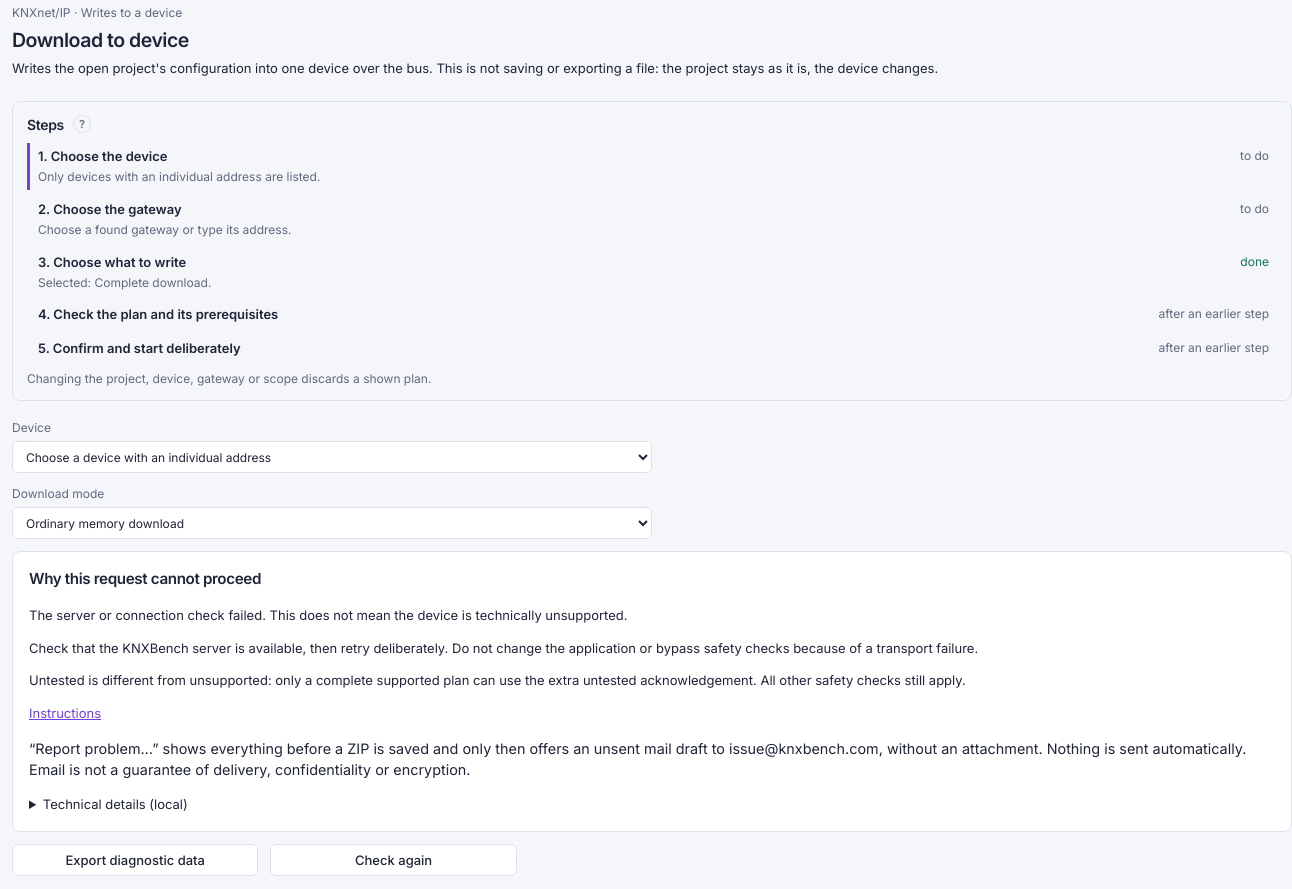
keeps an ordinary readiness failure out of System-2 mode and back in memory mode
The width and height of the screenshot is (1292, 889).
Select "1.1.67 — Configured button" in the dropdown labelled "Device" at [332, 457], box [12, 441, 652, 473]
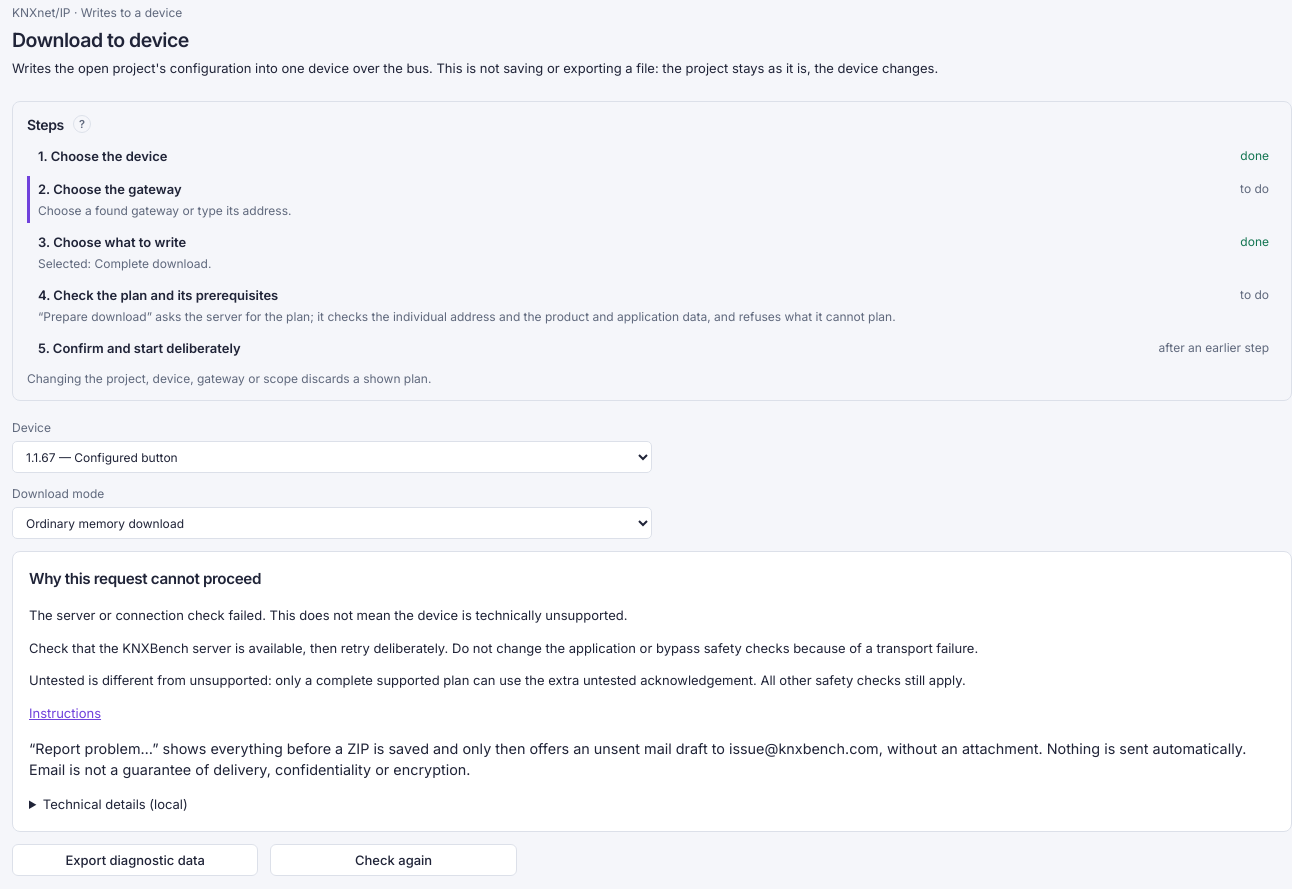
Expected: the element named "Why this request cannot proceed" is shown, [12, 551, 1291, 832]
Expected: the button "Check again" is shown, [270, 844, 517, 876]
Select "System-2 — experimental configured download" in the dropdown labelled "Download mode" at [332, 523], box [12, 507, 652, 539]
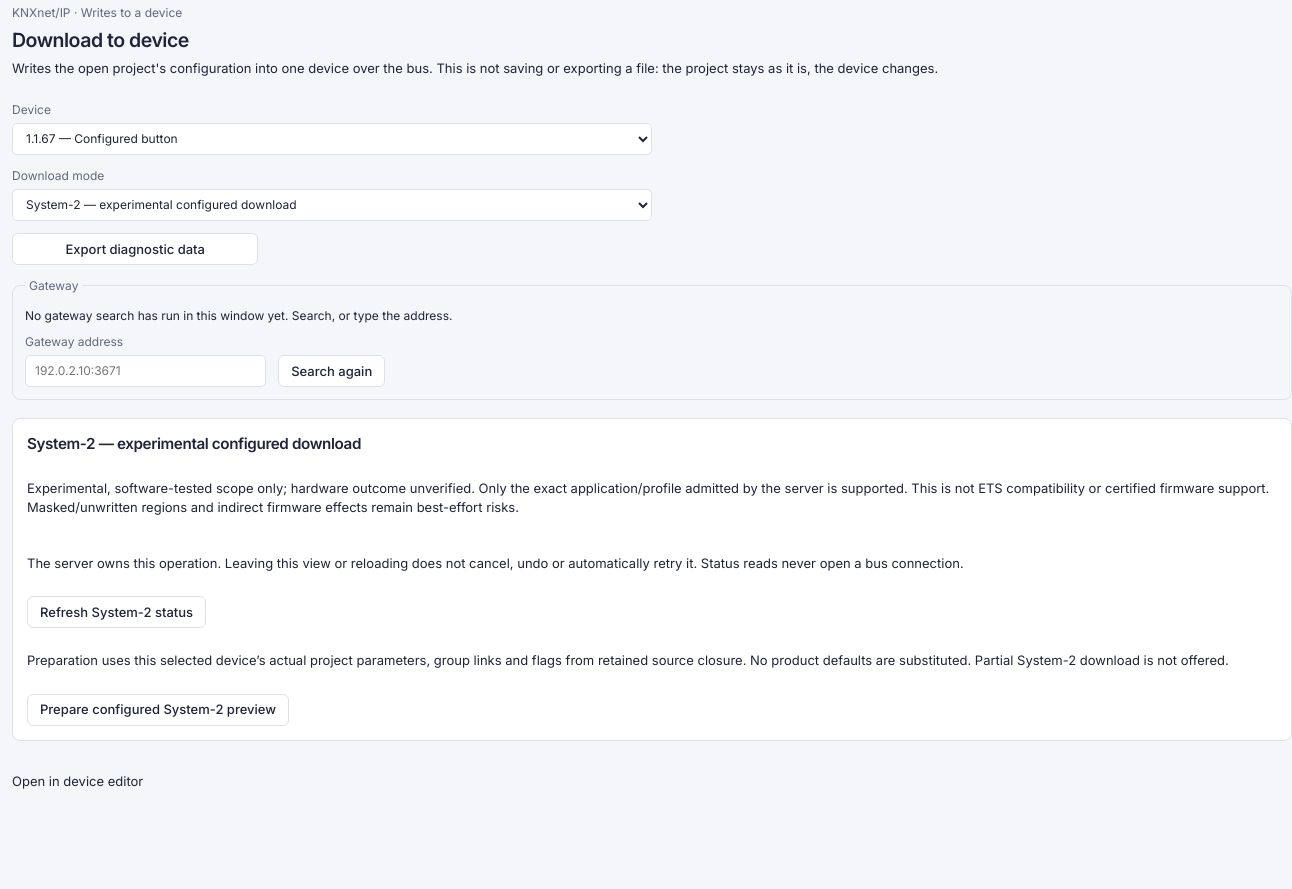
Select "Ordinary memory download" in the dropdown labelled "Download mode" at [332, 205], box [12, 189, 652, 221]
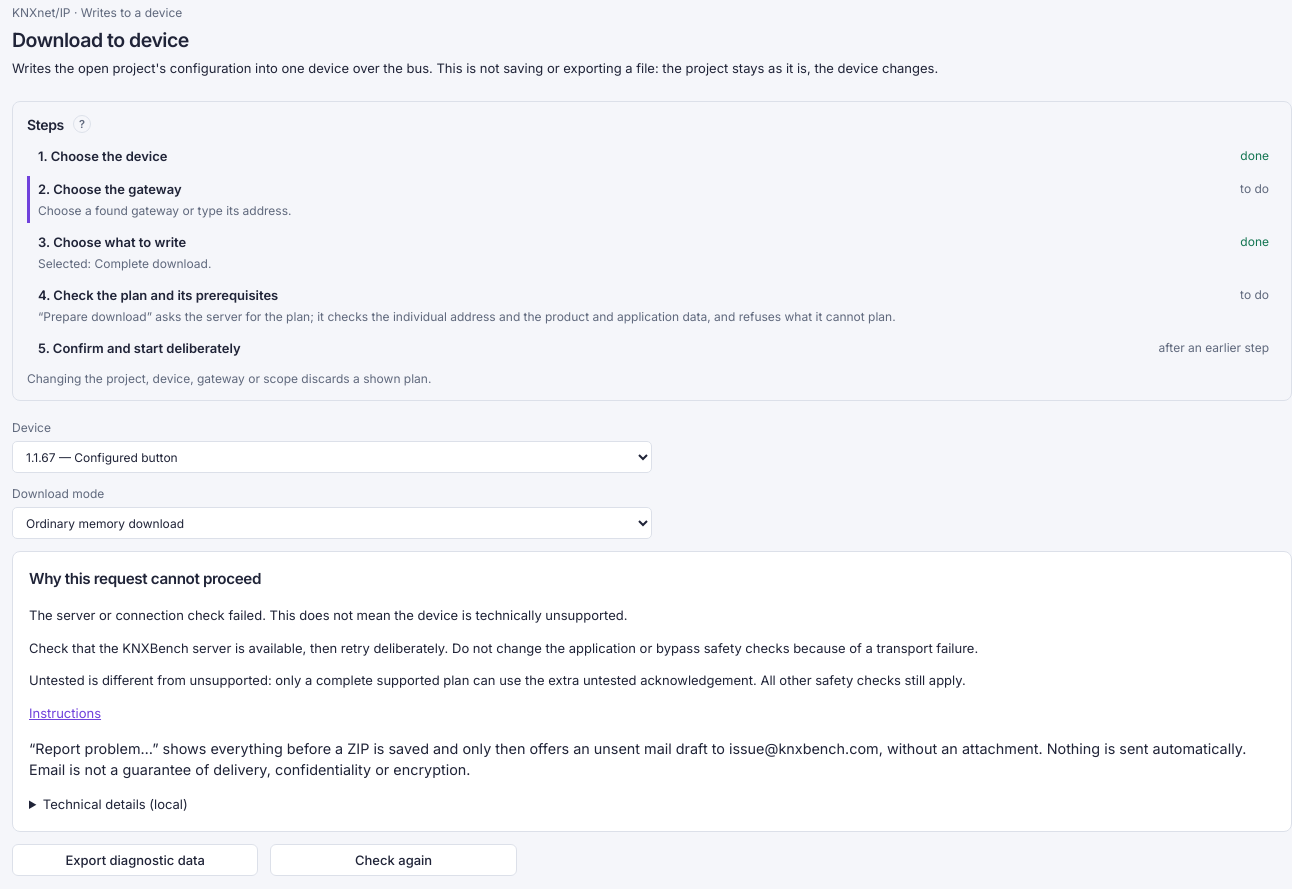
Expected: the element named "Why this request cannot proceed" is shown, [12, 551, 1291, 832]
